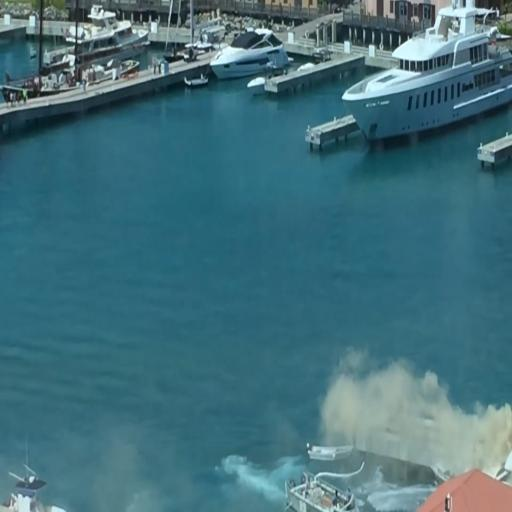smoke: (319, 343, 403, 440), (410, 395, 512, 462)
